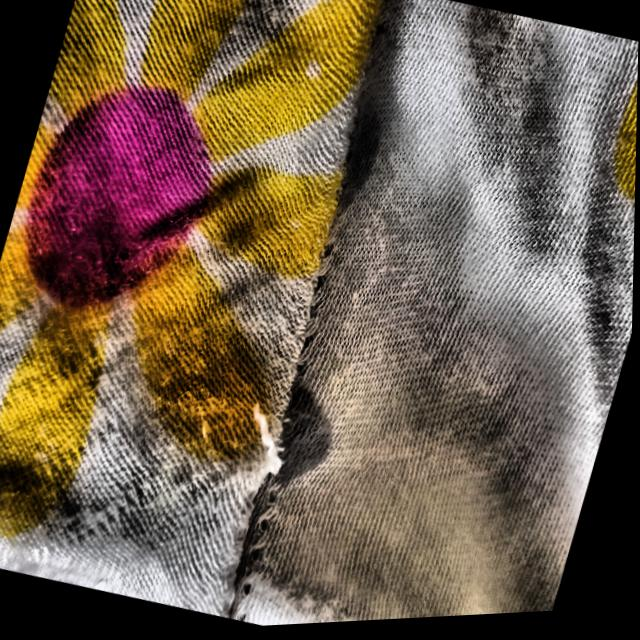Stitch: (160, 360, 347, 531)
